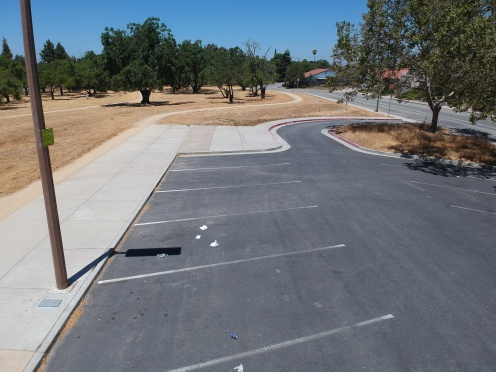bottle: (155, 250, 174, 258)
can: (222, 329, 240, 340)
